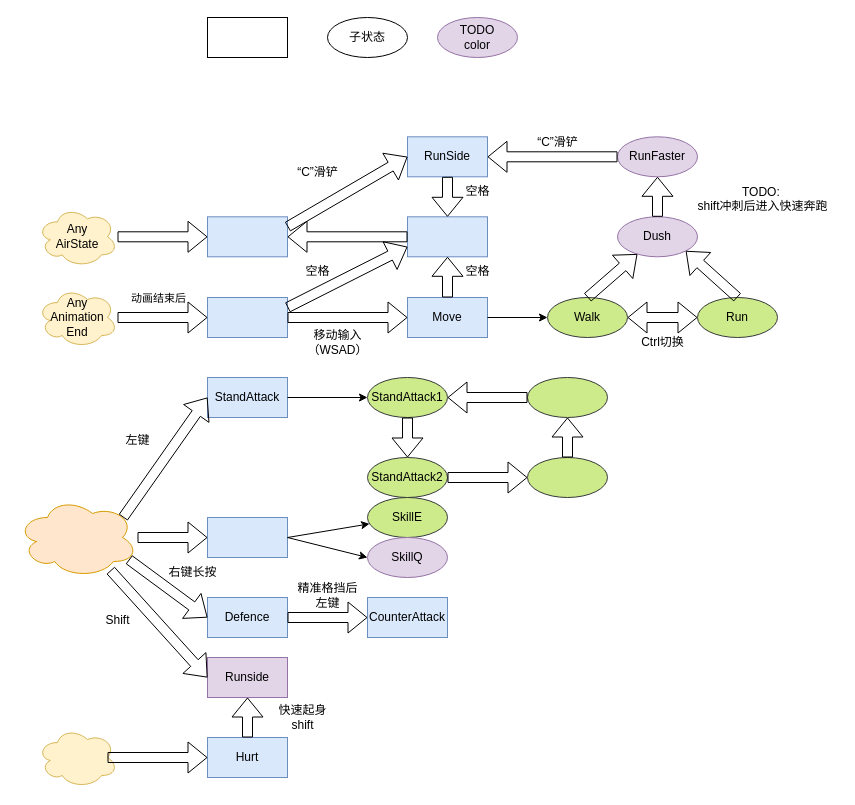
This 855x805 diagram has some shape labels left out. Each missing label, with the centre of its shape:
AirDown: the point at 247,236
Idle: the point at 247,317
Idle, Attack, Skill, Move: the point at 77,537
Jump: the point at 447,236
onHitAction: the point at 77,757
Skill: the point at 247,537
StandAttack3: the point at 567,477
StandAttack4: the point at 567,397
状态: the point at 247,37
